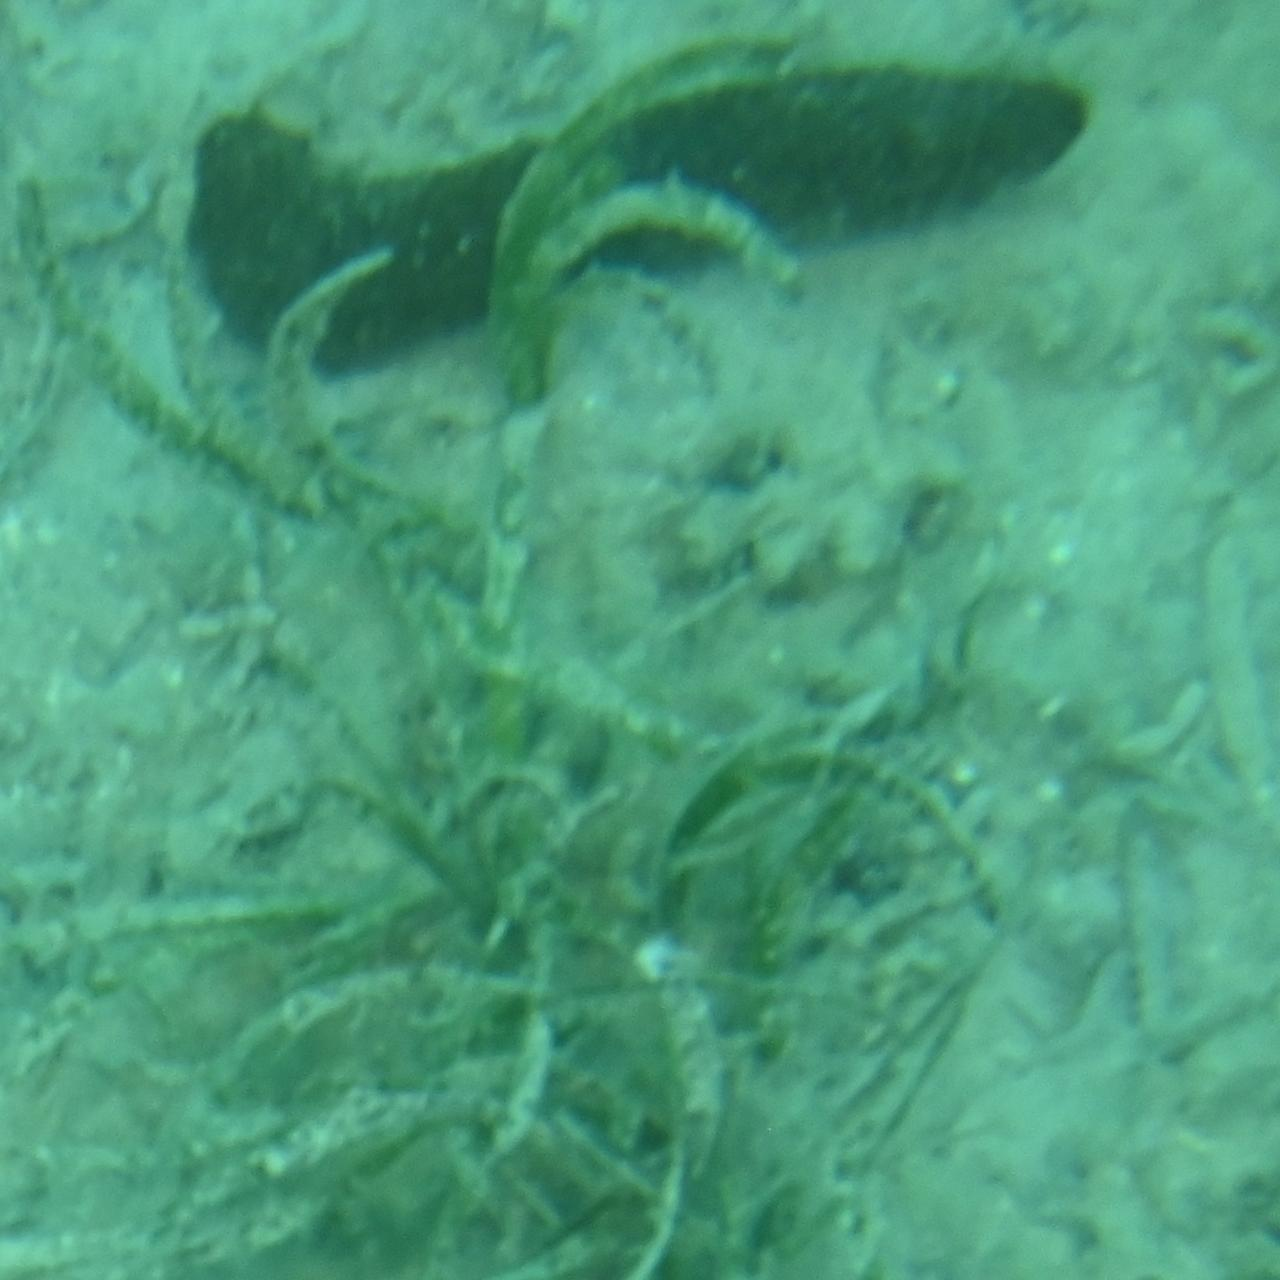Holothuria tubulosa: (198, 61, 1082, 379)
